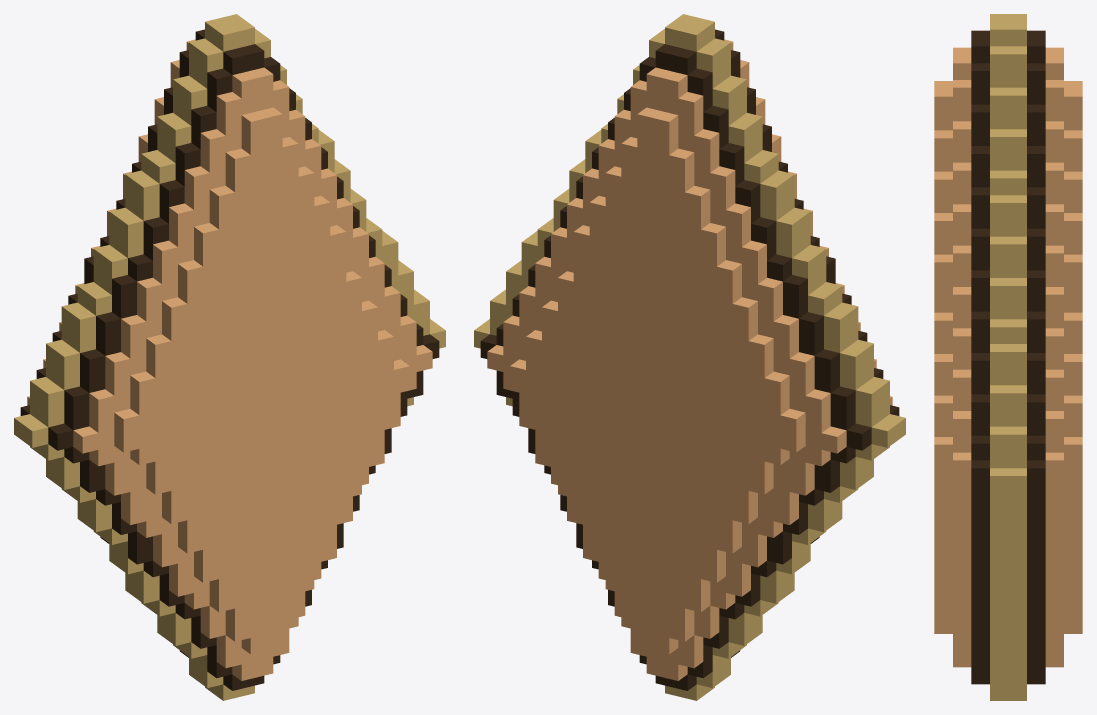
Rendered from selector.obj.
3 views of the same model, side by side, from view 1: azimuth 30°, elevation 25°; view 2: azimuth 150°, elevation 25°; view 3: azimuth 270°, elevation 25° (orthographic).
Visible parts, largest first — view 1: selector; view 2: selector; view 3: selector.
Boxes of the visible parts, bbox=[...] form: selector: bbox=[14, 14, 445, 700]; selector: bbox=[474, 14, 905, 700]; selector: bbox=[934, 14, 1082, 700].
Size of the model in its own units: 26 by 40 by 8.
